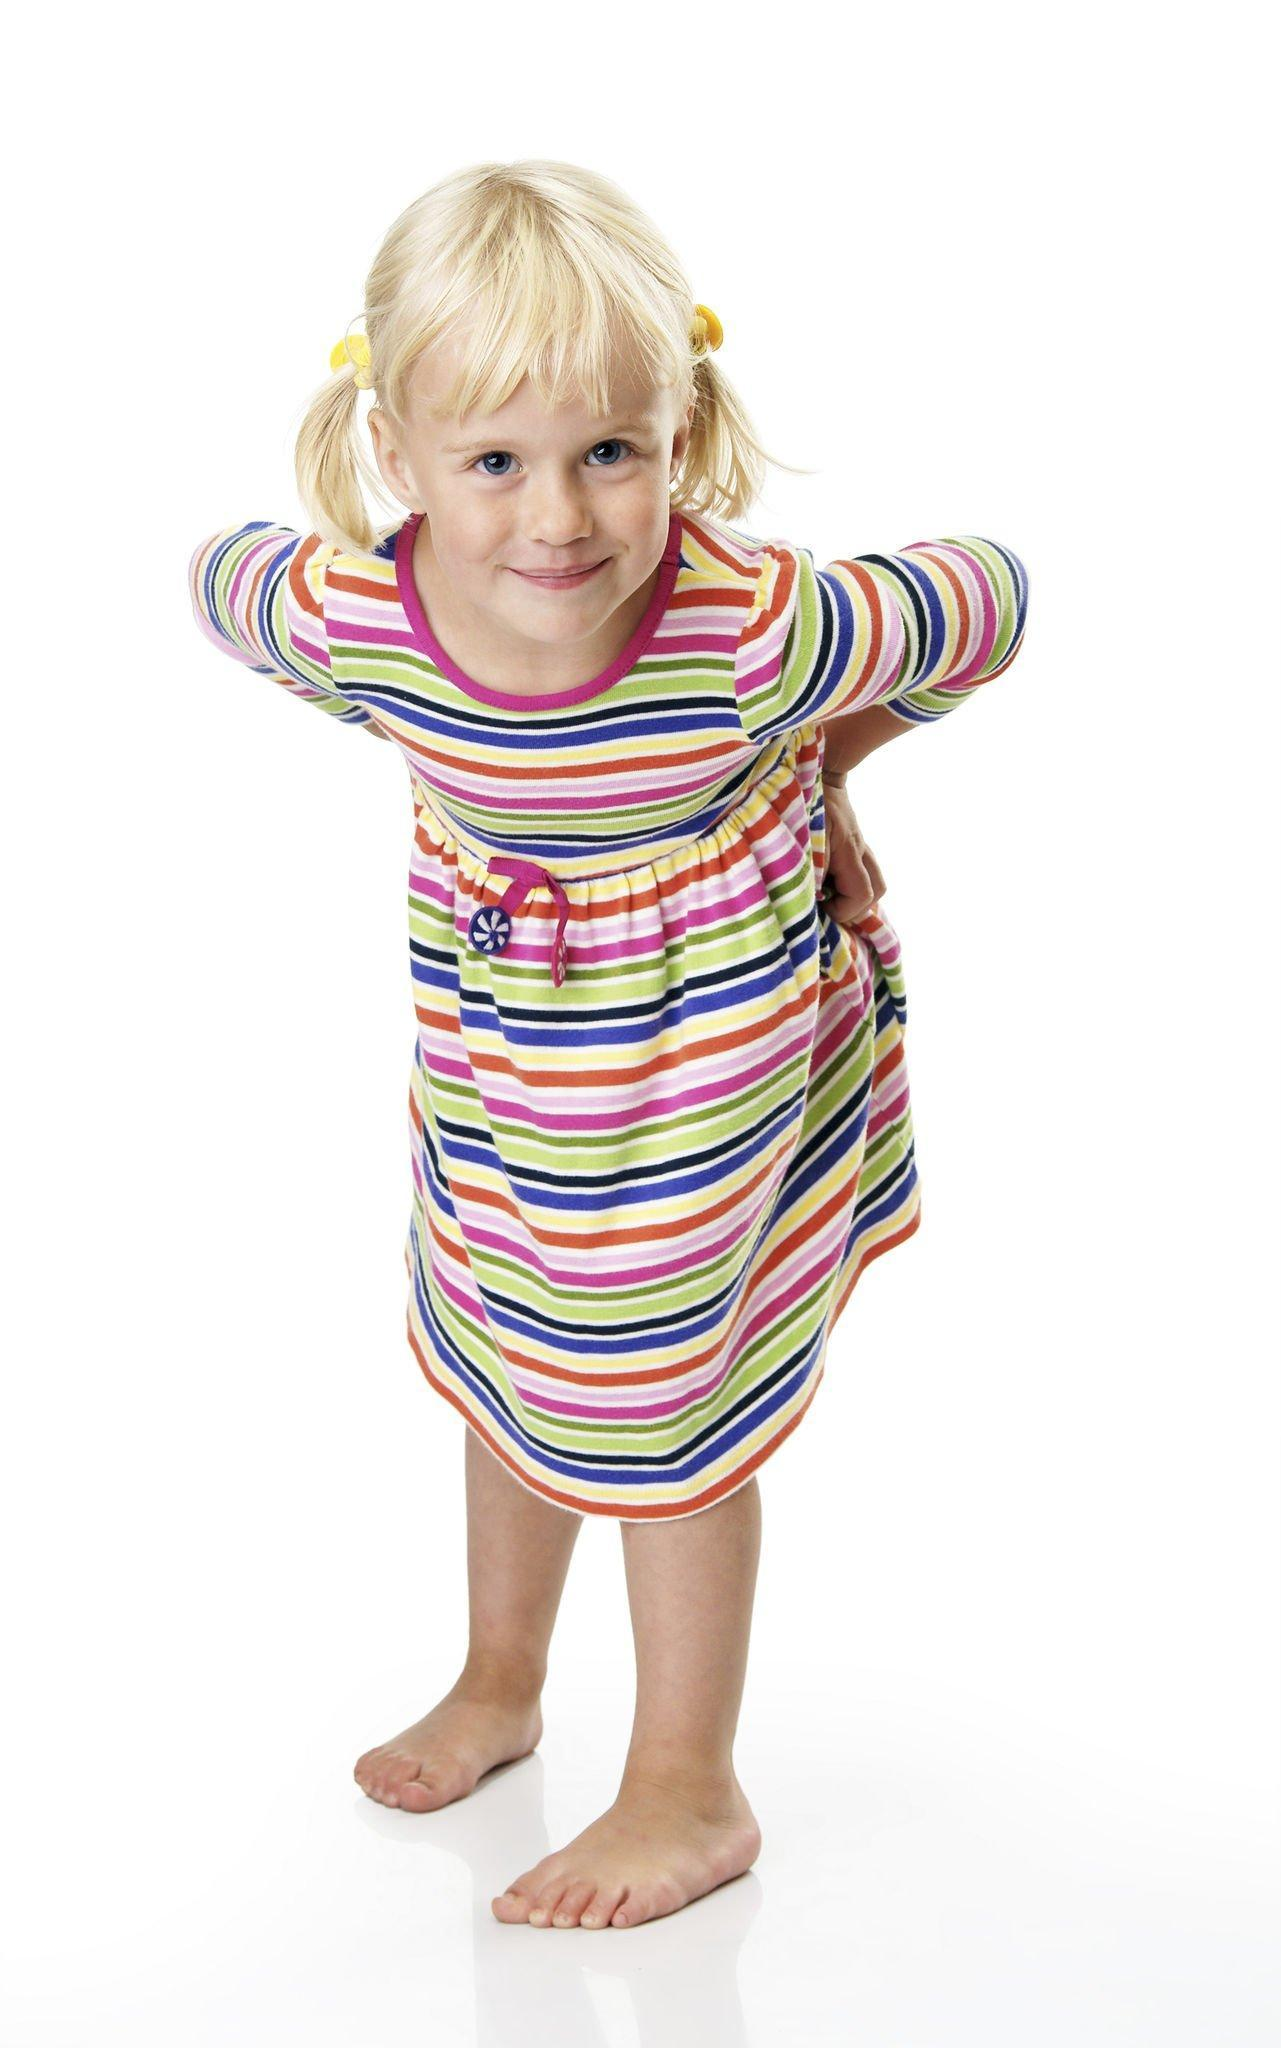Healthy: (362, 267, 700, 660)
